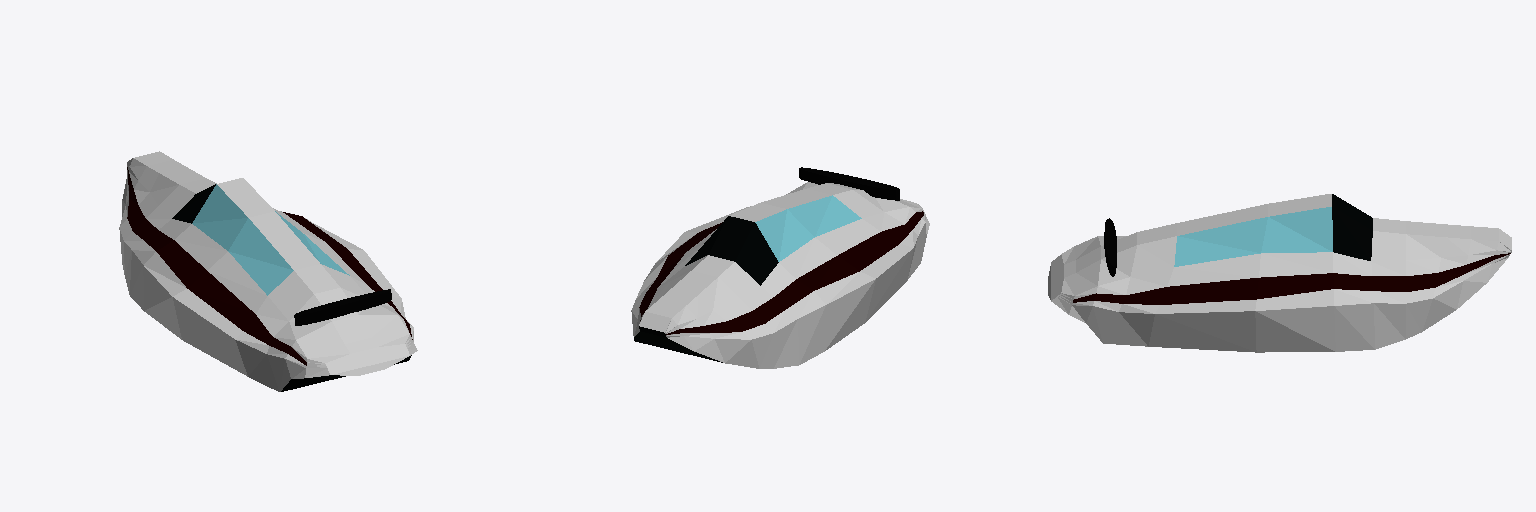
The model's file is beachflag.obj.
3 views of the same model, side by side, from view 1: azimuth 30°, elevation 25°; view 2: azimuth 150°, elevation 25°; view 3: azimuth 270°, elevation 25° (orthographic).
Parts seen in each view (by area): view 1: Plane, BezierCurve; view 2: Plane, BezierCurve; view 3: Plane, BezierCurve.
Part boxes in pixels (x1,y1,x2,y2): Plane: (119,151,417,391); BezierCurve: (294,289,391,325); Plane: (631,182,929,368); BezierCurve: (799,167,899,200); Plane: (1048,194,1511,352); BezierCurve: (1104,218,1116,276).
Bounding box in the file's own units: 4.01 × 2.25 × 8.43.